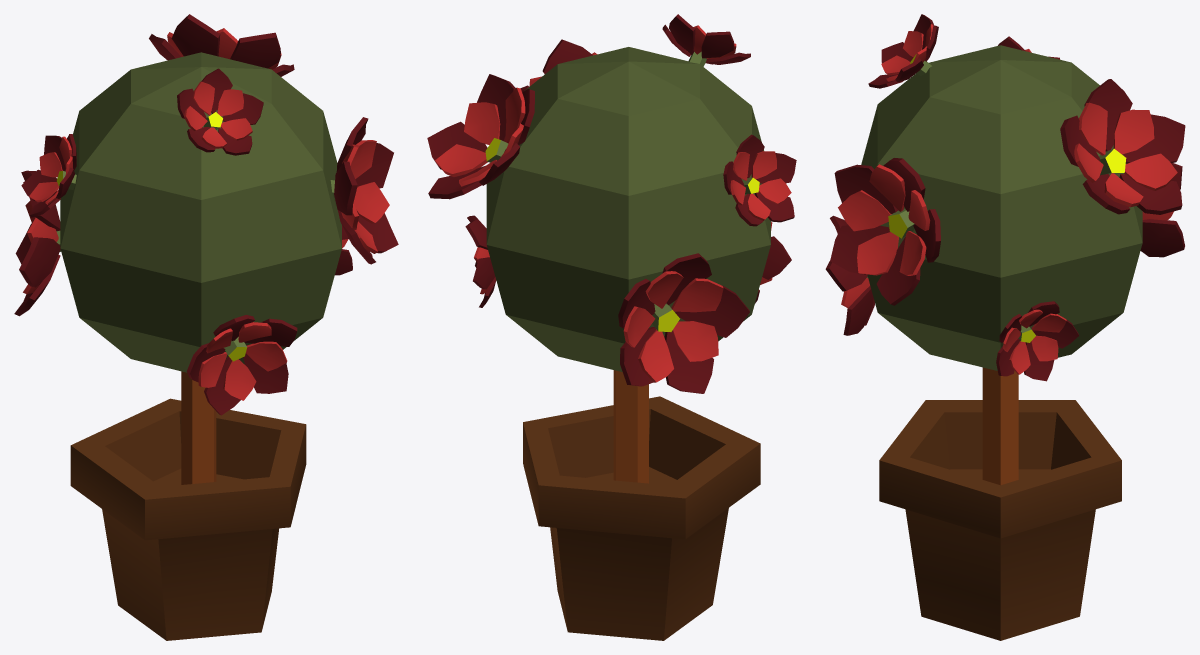
File: g_o_Plant2.fbx
3 views of the same model, side by side, from view 1: azimuth 30°, elevation 25°; view 2: azimuth 150°, elevation 25°; view 3: azimuth 270°, elevation 25° (orthographic).
Parts seen in each view (by area): view 1: Flowerpot3; view 2: Flowerpot3; view 3: Flowerpot3.
Part boxes in pixels (<box>): Flowerpot3: <box>14,14,398,640</box>; Flowerpot3: <box>427,14,796,640</box>; Flowerpot3: <box>825,14,1185,640</box>.
Bounding box in the file's own units: 1.37 × 2.27 × 1.29.
